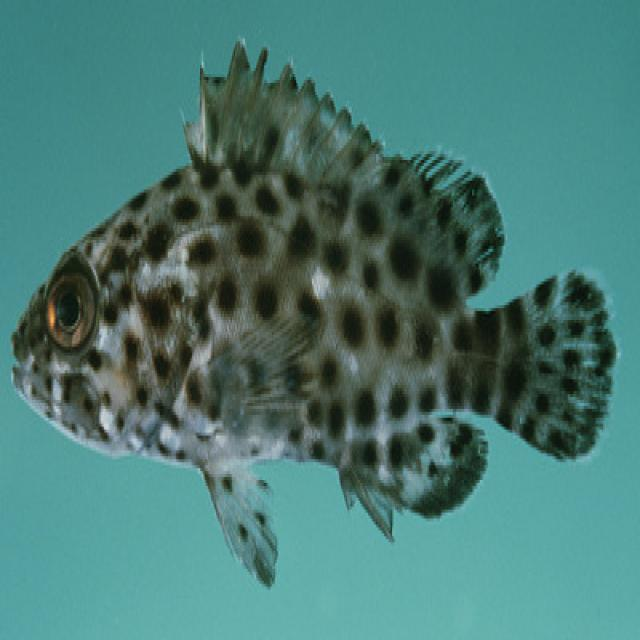ikan: (10, 32, 626, 575)
